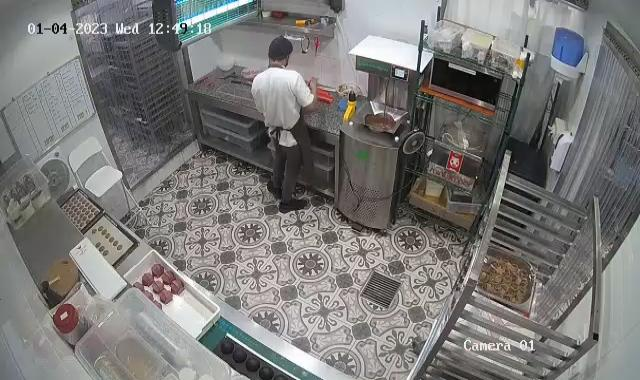no_hairnet: (269, 30, 296, 63)
